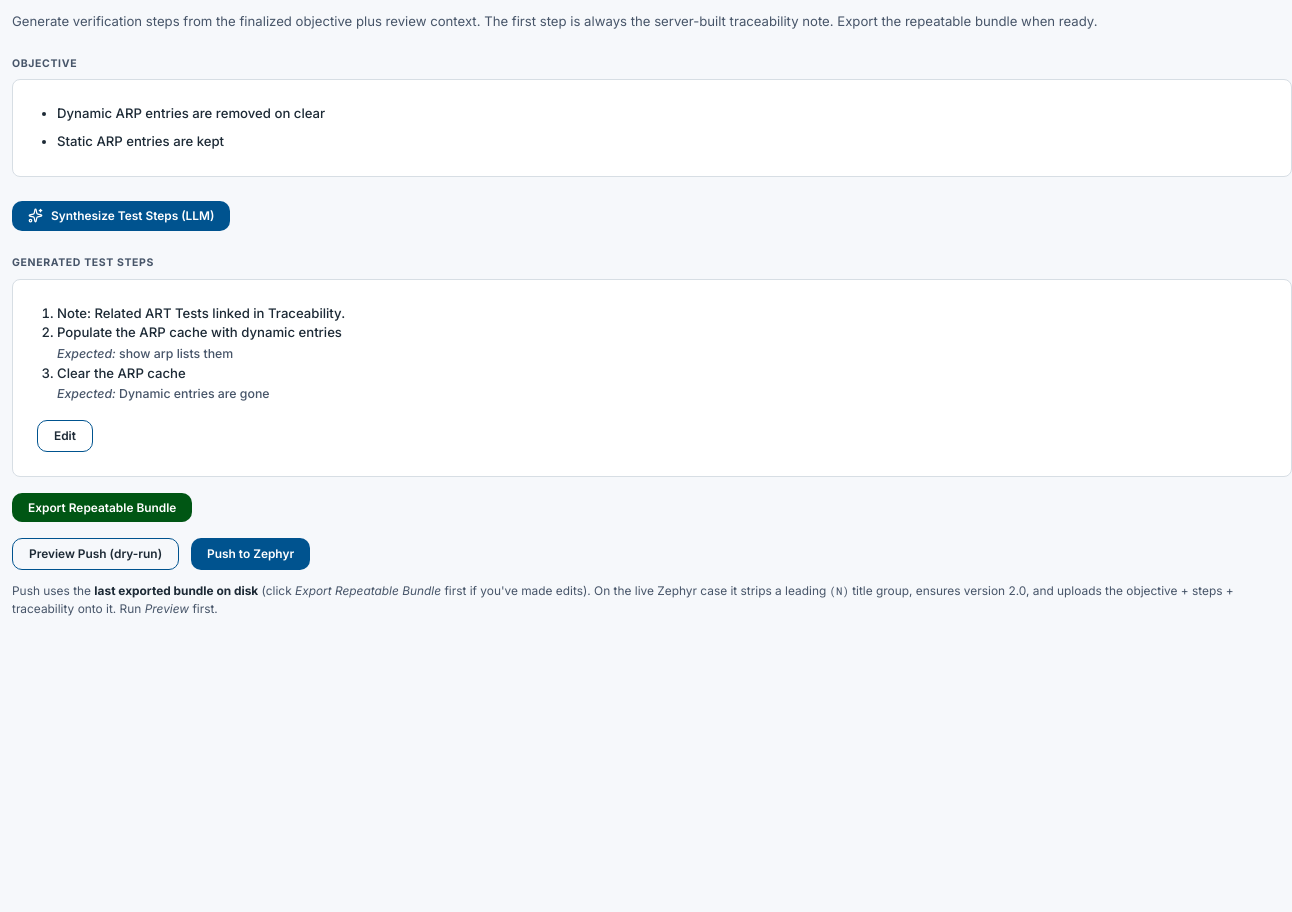
Test: OgTestSteps › editing › opens a pair of fields per step, filled with the current text
This screenshot has width=1292, height=912.
Click the button "Edit" at (65, 436), box top-left (37, 420), bottom-right (93, 452)
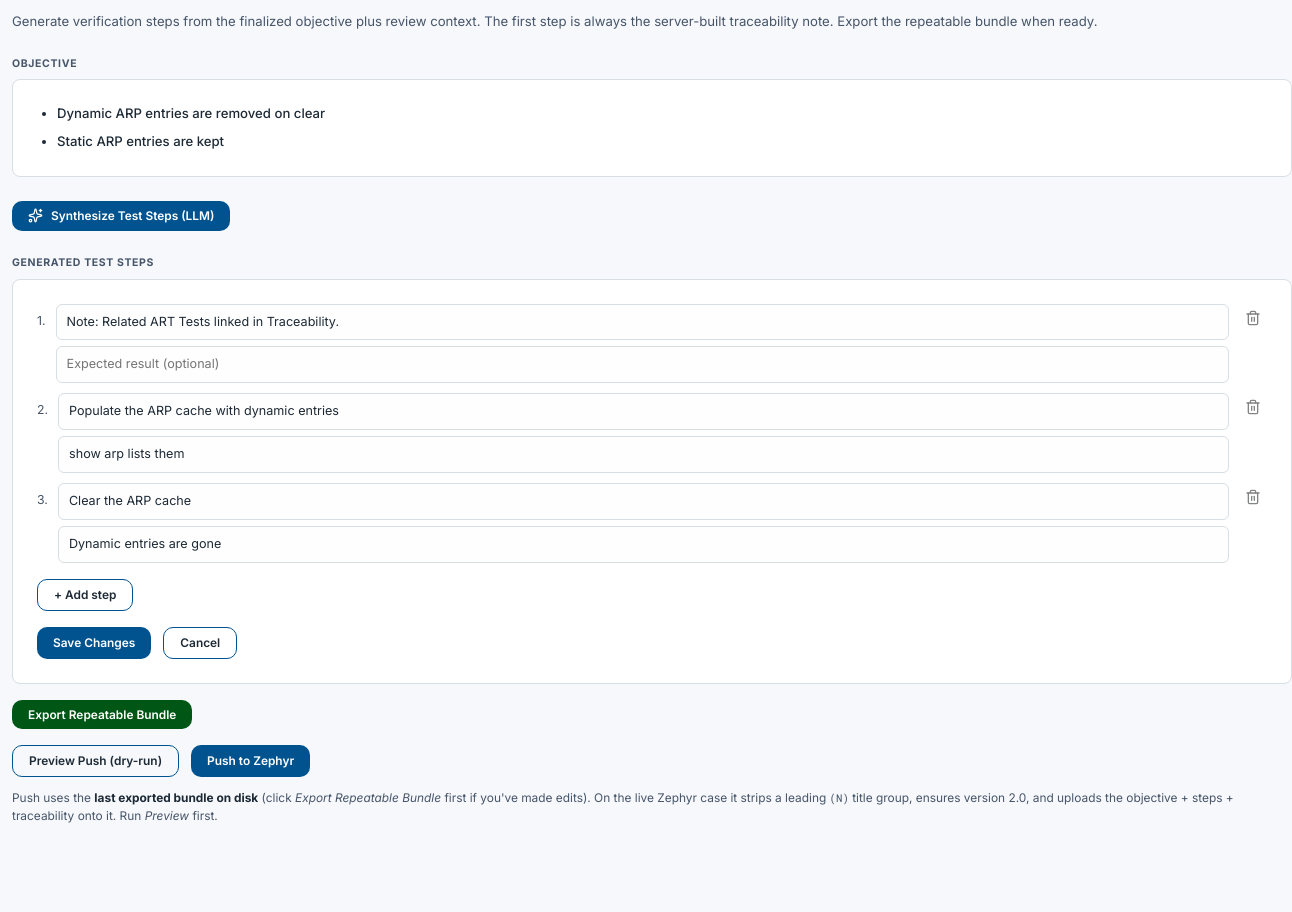
Expected: the number of fields with placeholder "Step description" is 3, top-left (56, 304), bottom-right (1229, 340); top-left (58, 393), bottom-right (1229, 430); top-left (58, 483), bottom-right (1229, 520)
Expected: the 4th field with placeholder "Step description" holds "Clear the ARP cache", top-left (58, 483), bottom-right (1229, 520)
Expected: the 5th field with placeholder "Expected result (optional)" holds "Dynamic entries are gone", top-left (58, 526), bottom-right (1229, 563)
